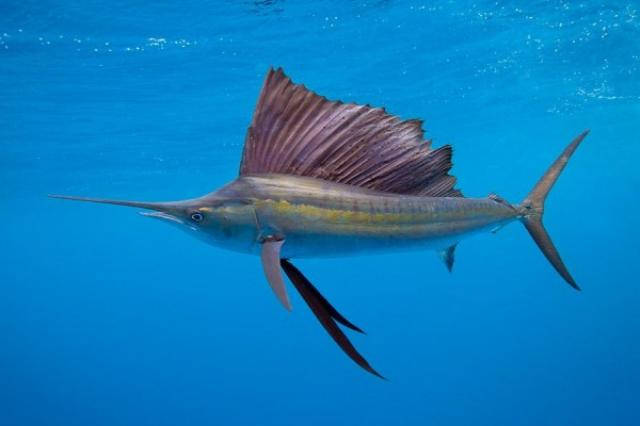Mulut: (34, 175, 218, 267)
Sirip Anal: (482, 187, 514, 245)
Sirip Dada: (252, 212, 304, 328)
Sirip Ekor: (516, 121, 596, 301)
Sirip Perut: (426, 229, 468, 286)
Sirip Punggung: (231, 48, 471, 204)
